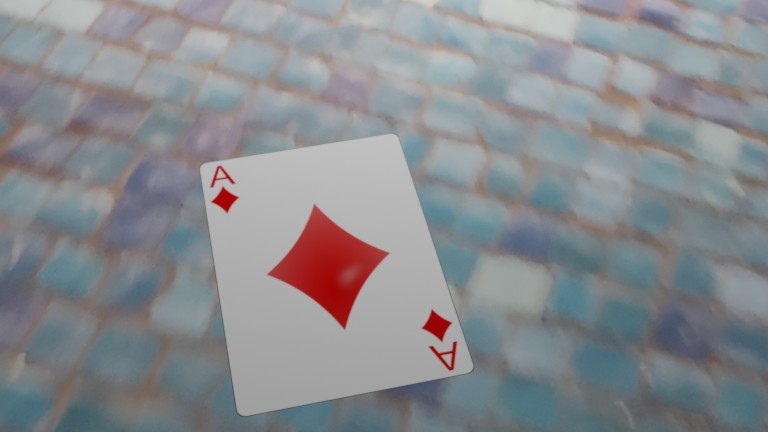ace_of_diamonds: (410, 304, 472, 375), (201, 161, 248, 218)
